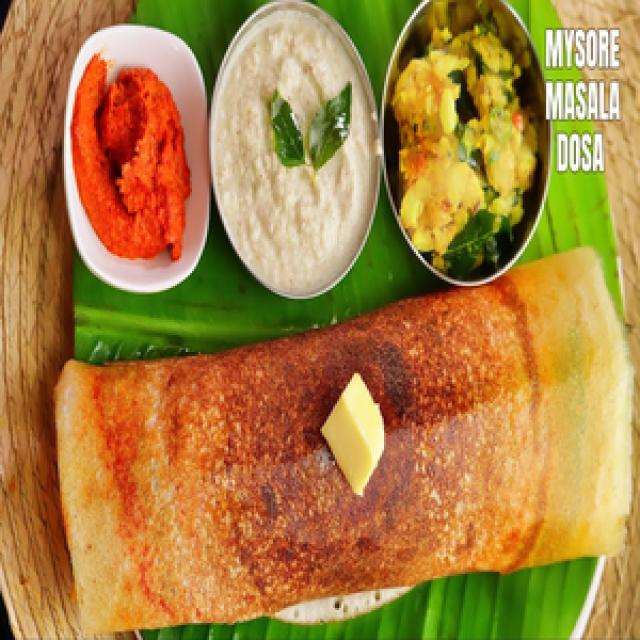dosa: (19, 244, 640, 640)
